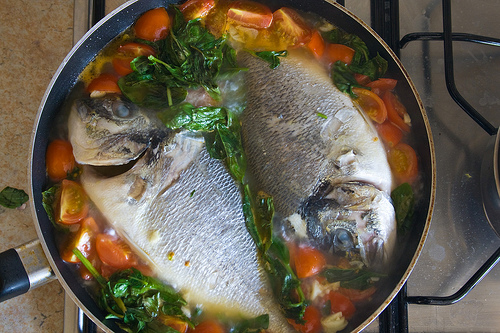fish: (66, 86, 305, 332), (230, 41, 398, 286)
